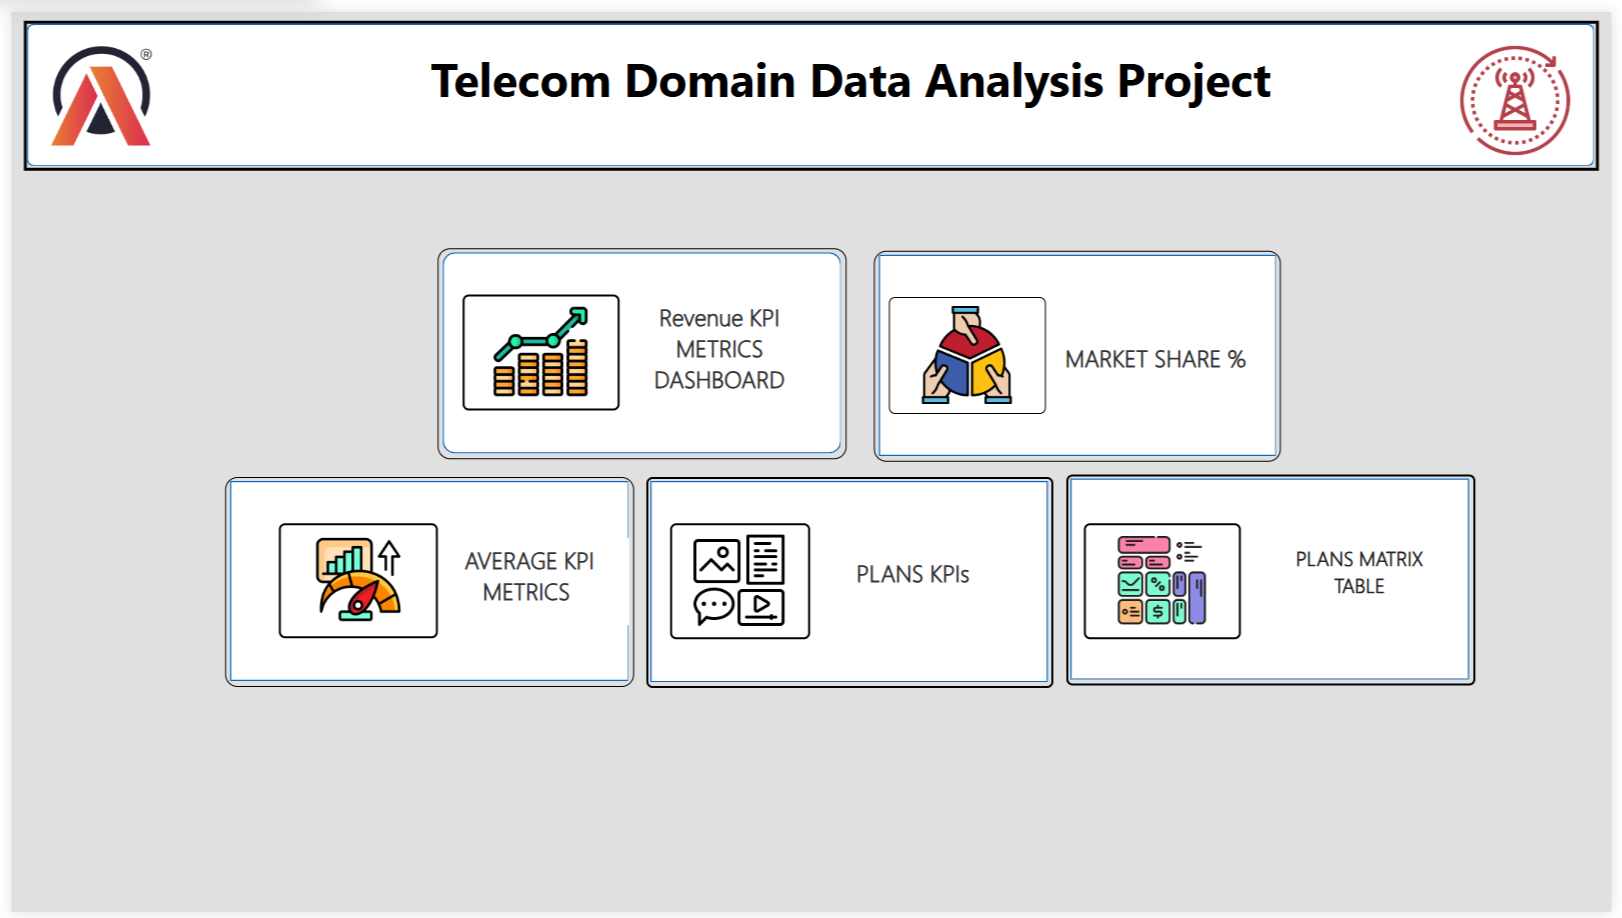

Layout of this report page (visuals, bound fields, positions):
{"tool":"powerbi","page":{"name":"Home Page","canvas":[1280,720],"ordinal":0},"visuals":[{"type":"shape","box":[10,7.1,1260,120],"z":1000},{"type":"shape","box":[171.2,371.6,326.6,168.8],"z":2000},{"type":"shape","box":[341.4,189.1,326.6,168.8],"z":9000},{"type":"shape","box":[689.7,191.3,326.6,168.8],"z":10000},{"type":"shape","box":[843.9,370.5,326.6,168.8],"z":11000},{"type":"image","box":[360.6,226.1,126.2,93.3],"z":12000},{"type":"textbox","box":[486.9,226.1,159.2,96.1],"z":13000},{"type":"image","box":[702,228.3,126.2,93.3],"z":14000},{"type":"textbox","box":[837.9,258.5,166,63.1],"z":15000},{"type":"textbox","box":[334.6,421,159.2,70],"z":16000},{"type":"image","box":[214.3,408.6,127.1,92.9],"z":17000},{"type":"shape","box":[507.7,371.9,326.6,168.8],"z":18000},{"type":"textbox","box":[1004.5,421.3,148.2,70],"z":19000},{"type":"image","box":[526.9,408.9,112.5,93.3],"z":20000},{"type":"textbox","box":[671,430.9,119.4,52.1],"z":21000},{"type":"image","box":[857.6,408.9,126.2,93.3],"z":22000},{"type":"textbox","box":[317.1,22.9,708.6,88.6],"z":23000},{"type":"image","box":[25.7,11.4,94.3,111.4],"z":24000},{"type":"image","box":[1152.9,15.7,100,111.4],"z":25000}]}

Visuals, with their boxes in screenshot pixels (x1, y1, x2, y2), scaled from the page's 1280x720 canvas onto the 1622x918 screenshot:
shape: (13,9,1609,162)
shape: (217,474,631,689)
shape: (433,241,846,456)
shape: (874,244,1288,459)
shape: (1069,472,1483,688)
image: (457,288,617,407)
textbox: (617,288,819,411)
image: (890,291,1049,410)
textbox: (1062,330,1272,410)
textbox: (424,537,626,626)
image: (272,521,433,639)
shape: (643,474,1057,689)
textbox: (1273,537,1461,626)
image: (668,521,810,640)
textbox: (850,549,1002,616)
image: (1087,521,1247,640)
textbox: (402,29,1300,142)
image: (33,15,152,157)
image: (1461,20,1588,162)
